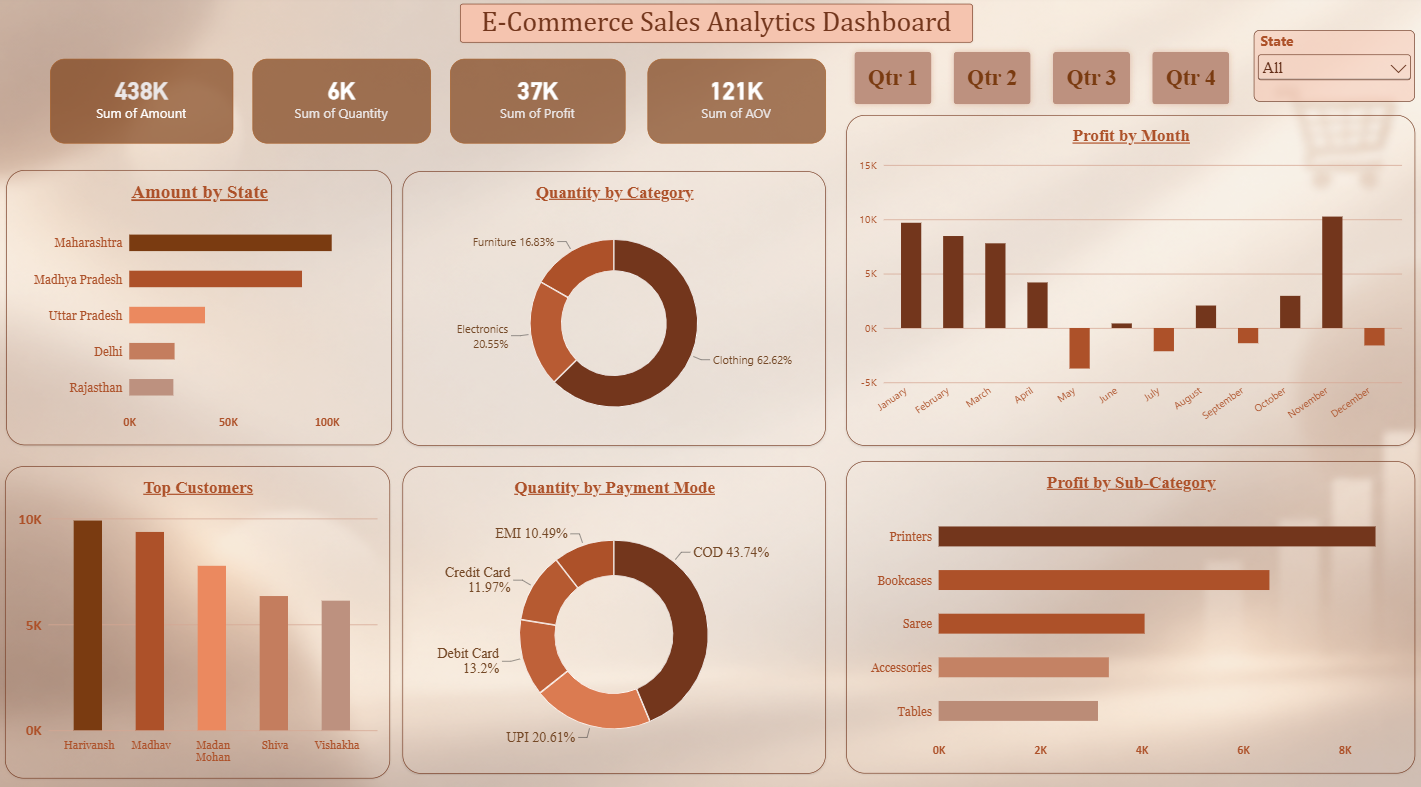

What the dashboard file says about the page in this screenshot:
{"tool":"powerbi","page":{"name":"Page 1","canvas":[1920,1080],"ordinal":0},"visuals":[{"type":"textbox","box":[622.7,12.2,687.2,52.3],"z":0},{"type":"columnChart","title":"Profit by Month","fields":{"Y":["Sum(Details.Profit)"],"Category":["Orders.Order Date.Variation.Date Hierarchy.Month"]},"box":[1140.7,160.5,762.2,443],"z":1000},{"type":"barChart","title":"Profit by Sub-Category","fields":{"Y":["Sum(Details.Profit)"],"Category":["Details.Sub-Category"]},"box":[1140.7,624.4,762.2,418.6],"z":2000},{"type":"donutChart","title":"Quantity by Category","fields":{"Category":["Details.Category"],"Y":["Sum(Details.Quantity)"]},"box":[545.9,235.5,566.9,368],"z":3000},{"type":"donutChart","title":"Quantity by Payment Mode","fields":{"Category":["Details.PaymentMode"],"Y":["Sum(Details.Quantity)"]},"box":[545.9,631.4,566.9,411.6],"z":4000},{"type":"cardVisual","fields":{"Data":["Sum(Details.Amount)"]},"box":[73.3,85.5,245.9,113.4],"z":5000},{"type":"cardVisual","fields":{"Data":["Sum(Details.Profit)"]},"box":[610.5,85.5,235.5,113.4],"z":6000},{"type":"cardVisual","fields":{"Data":["Sum(Details.Quantity)"]},"box":[345.3,85.5,239,113.4],"z":7000},{"type":"cardVisual","fields":{"Data":["Sum(Details.AOV)"]},"box":[873.8,85.5,239,113.4],"z":8000},{"type":"barChart","title":"Amount by State","fields":{"Category":["Orders.State"],"Y":["Sum(Details.Amount)"]},"box":[14.4,234.6,516.6,368.4],"z":9000},{"type":"columnChart","title":"Top Customers","fields":{"Y":["Sum(Details.Amount)"],"Category":["Orders.CustomerName"]},"box":[14,631.4,516.3,418.6],"z":10000},{"type":"advancedSlicerVisual","fields":{"Values":["Orders.Order Date.Variation.Date Hierarchy.Quarter"]},"box":[1140.7,64.5,525,92.4],"z":11000},{"type":"slicer","fields":{"Values":["Orders.State"]},"box":[1686.6,47.1,216.3,95.9],"z":12000}]}

Visuals, with their boxes in screenshot pixels (x1, y1, x2, y2), scaled from the page's 1920x1080 canvas onto the 1421x787 screenshot:
textbox: crop(461, 9, 969, 47)
"Profit by Month" columnChart: crop(844, 117, 1408, 440)
"Profit by Sub-Category" barChart: crop(844, 455, 1408, 760)
"Quantity by Category" donutChart: crop(404, 172, 824, 440)
"Quantity by Payment Mode" donutChart: crop(404, 460, 824, 760)
cardVisual - Sum(Details.Amount): crop(54, 62, 236, 145)
cardVisual - Sum(Details.Profit): crop(452, 62, 626, 145)
cardVisual - Sum(Details.Quantity): crop(256, 62, 432, 145)
cardVisual - Sum(Details.AOV): crop(647, 62, 824, 145)
"Amount by State" barChart: crop(11, 171, 393, 439)
"Top Customers" columnChart: crop(10, 460, 392, 765)
advancedSlicerVisual - Orders.Order Date.Variation.Date Hierarchy.Quarter: crop(844, 47, 1233, 114)
slicer - Orders.State: crop(1248, 34, 1408, 104)
